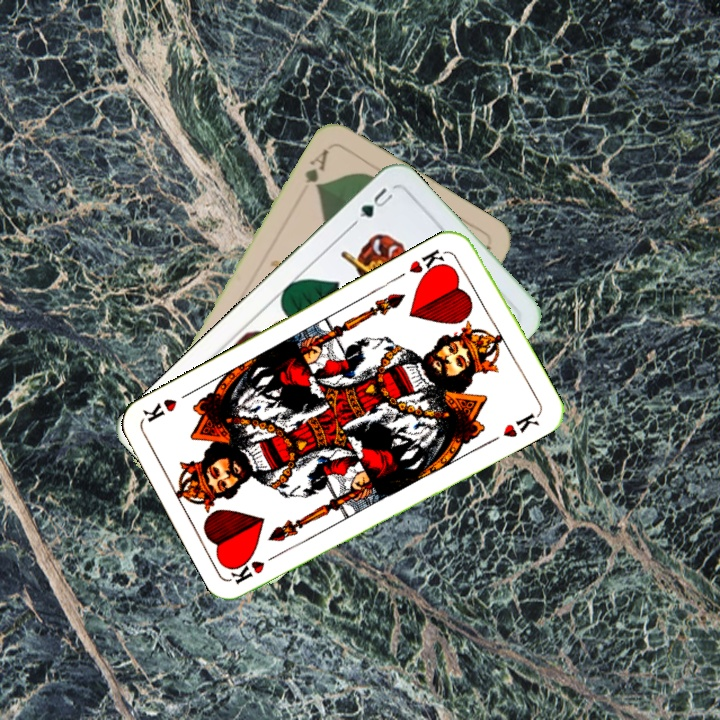GA: (301, 145, 331, 192)
GU: (355, 183, 397, 221)
HK: (228, 547, 285, 587), (405, 245, 450, 282)
